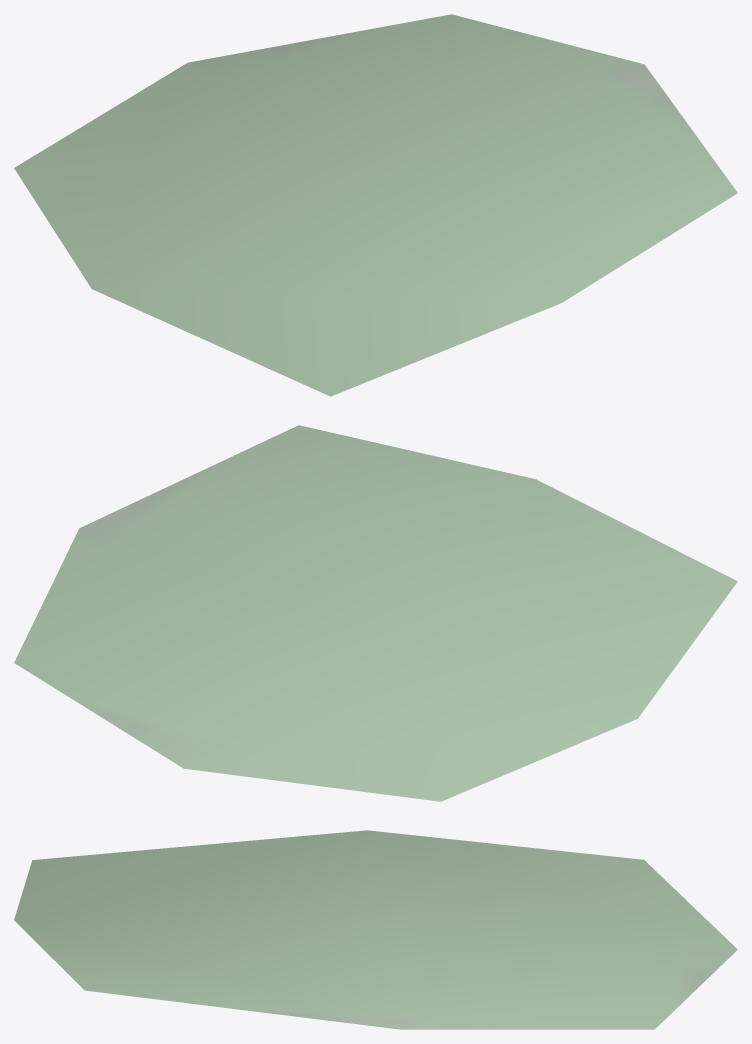
The model's file is TROLLHOLE02_HOLECAP14.fbx.
3 renders of one model, top to bottom at view 1: azimuth 30°, elevation 25°; view 2: azimuth 150°, elevation 25°; view 3: azimuth 270°, elevation 25°, orthographic. The views are drawn at different scales.
Visible parts, largest first — view 1: TROLLHOLE02_HOLECAP14; view 2: TROLLHOLE02_HOLECAP14; view 3: TROLLHOLE02_HOLECAP14.
Boxes of the visible parts, left/top/right/bottom form: TROLLHOLE02_HOLECAP14: left=14, top=14, right=737, bottom=396; TROLLHOLE02_HOLECAP14: left=14, top=425, right=737, bottom=801; TROLLHOLE02_HOLECAP14: left=14, top=830, right=737, bottom=1029.
Bounding box in the file's own units: 26910 × 3607 × 30425.
1 material, 1 textured.
